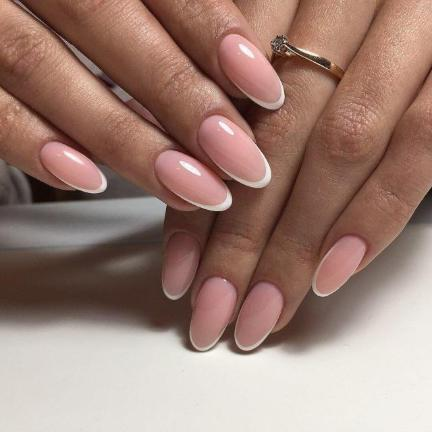Nail: (197, 115, 272, 188), (218, 32, 285, 110), (155, 150, 233, 211), (189, 277, 238, 351), (40, 141, 108, 194), (312, 235, 368, 297), (234, 282, 284, 351), (162, 232, 201, 300)
